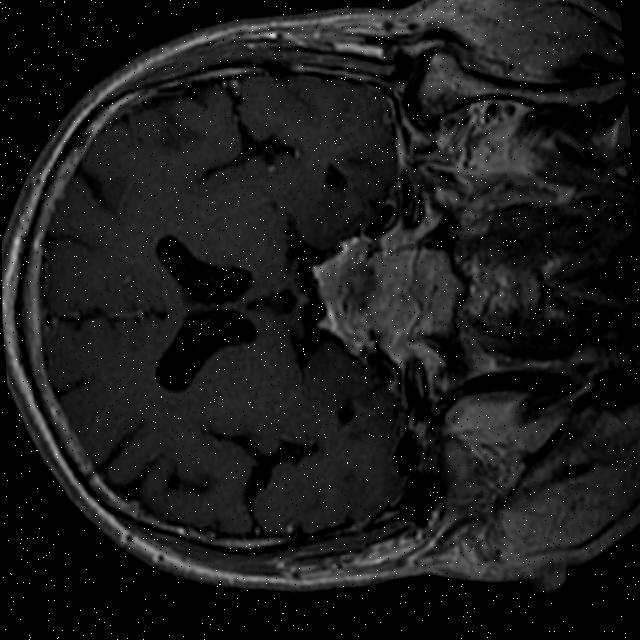Pituitary: (309, 225, 468, 359)
